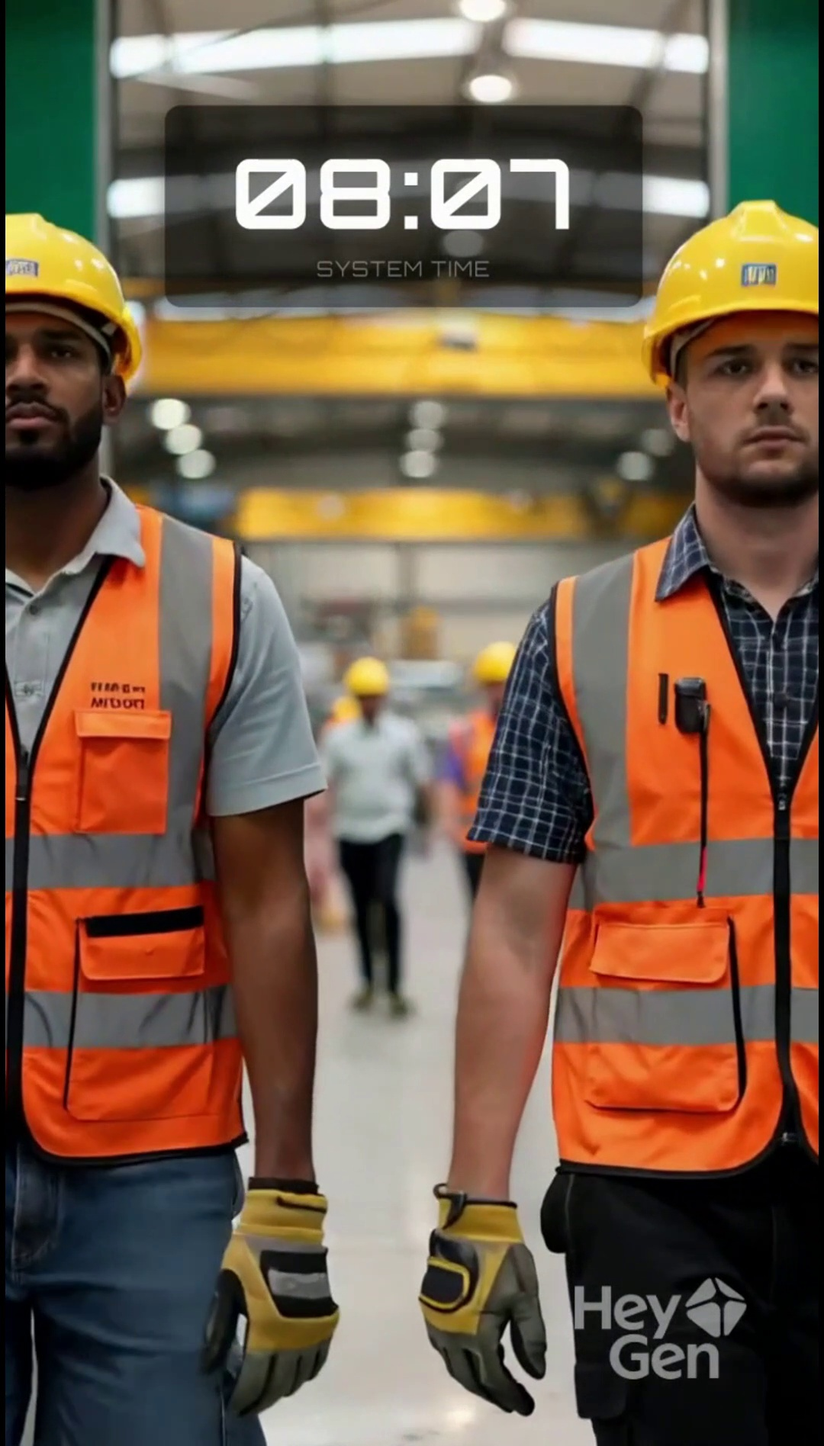Amir: (654, 212, 824, 540)
Sami: (3, 209, 124, 519)
employe: (516, 209, 824, 1417), (10, 193, 264, 1422)
porte_verte: (3, 0, 824, 1248)
temp: (145, 102, 637, 309)
